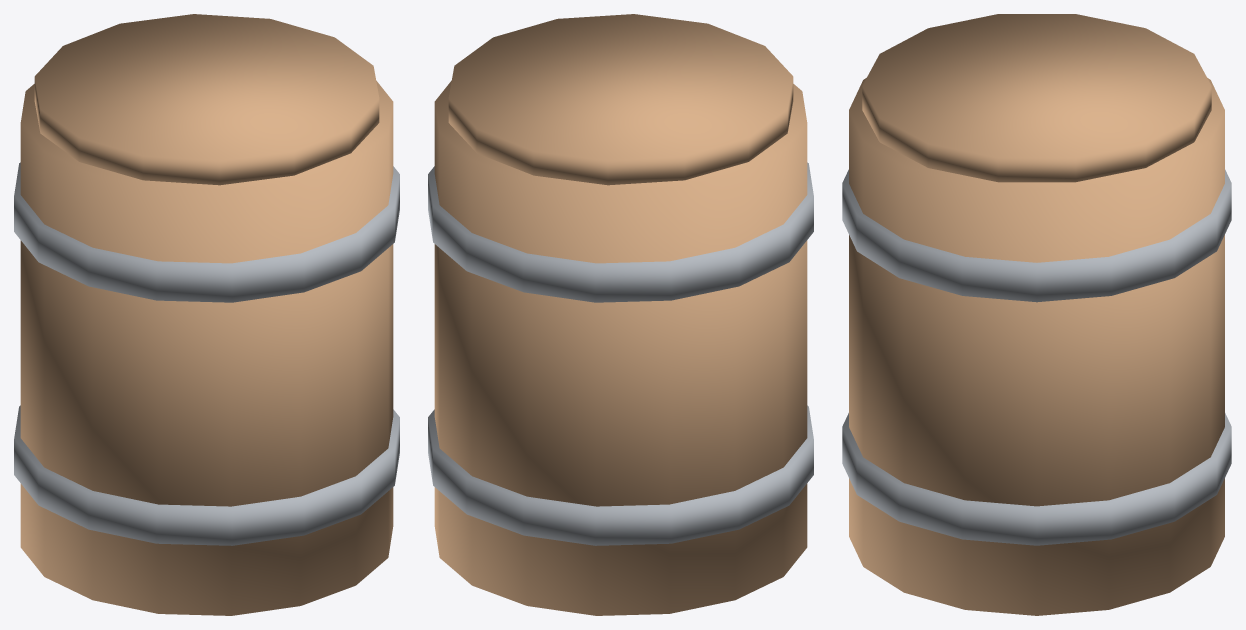
The model's file is cozy_barrel_A.glb.
The picture shows the model from 3 angles, left to right: view 1: azimuth 30°, elevation 25°; view 2: azimuth 150°, elevation 25°; view 3: azimuth 270°, elevation 25°; orthographic projection.
Parts seen in each view (by area): view 1: Body, Top, Band2, Band1; view 2: Body, Top, Band2, Band1; view 3: Body, Top, Band2, Band1.
Part boxes in pixels (x1,y1,x2,y2): Body: (20, 81, 393, 615); Top: (34, 14, 379, 185); Band2: (14, 162, 399, 302); Band1: (14, 405, 399, 545); Body: (434, 81, 807, 615); Top: (448, 14, 793, 185); Band2: (428, 162, 813, 302); Band1: (428, 405, 813, 545); Body: (849, 78, 1224, 615); Top: (862, 14, 1211, 182); Band2: (842, 169, 1231, 302); Band1: (842, 413, 1231, 545).
Size of the model in its own units: 0.58 by 0.74 by 0.58.
